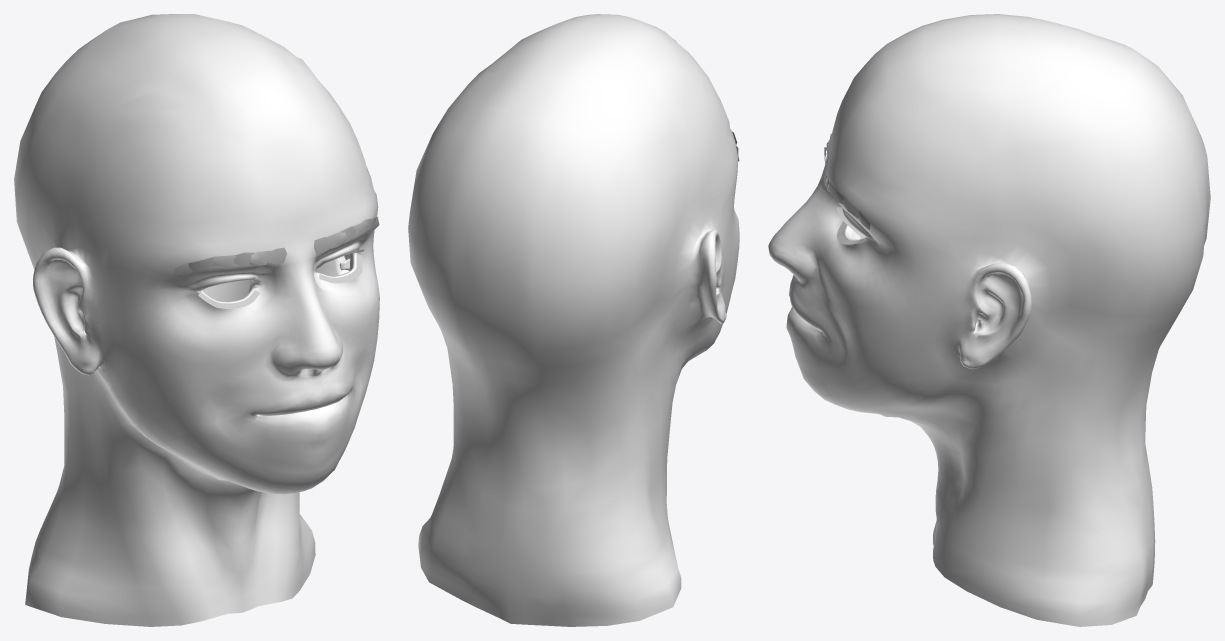
Rendered from mouthRollLower.obj.
The picture shows the model from 3 angles, left to right: view 1: azimuth 30°, elevation 25°; view 2: azimuth 150°, elevation 25°; view 3: azimuth 270°, elevation 25°; orthographic projection. The views are drawn at different scales.
Parts seen in each view (by area): view 1: FaceMesh_Plane.003; view 2: FaceMesh_Plane.003; view 3: FaceMesh_Plane.003.
Part boxes in pixels (x1,y1,x2,y2): FaceMesh_Plane.003: [14, 14, 379, 626]; FaceMesh_Plane.003: [408, 14, 739, 626]; FaceMesh_Plane.003: [768, 14, 1210, 626].
Bounding box in the file's own units: 1.54 × 2.71 × 1.94.
5 materials, 1 textured.
